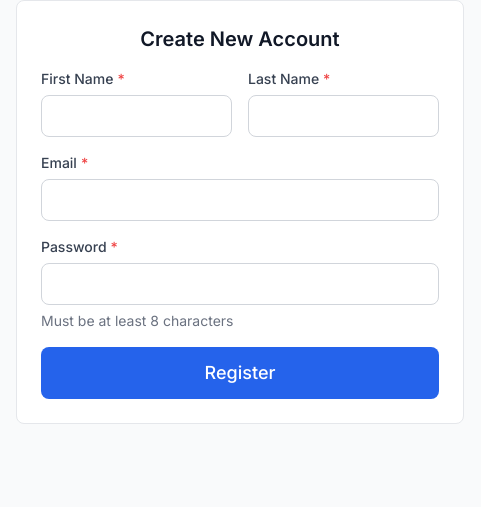
Test case: RegisterForm › shows api error message when registration fails
Type "Jane" into the field labelled "First Name*" at (136, 116), box top-left (41, 95), bottom-right (232, 137)
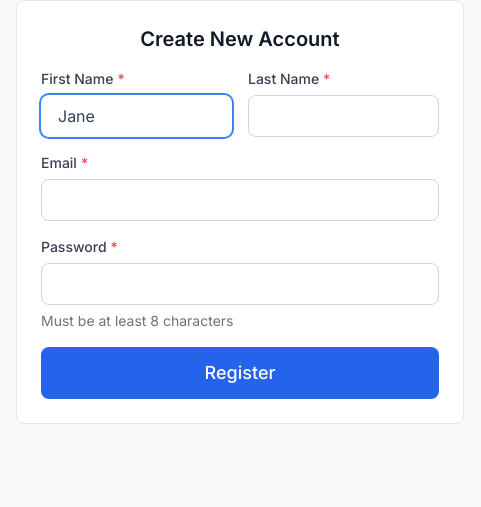
Type "Doe" into the field labelled "Last Name*" at (344, 116), box top-left (248, 95), bottom-right (439, 137)
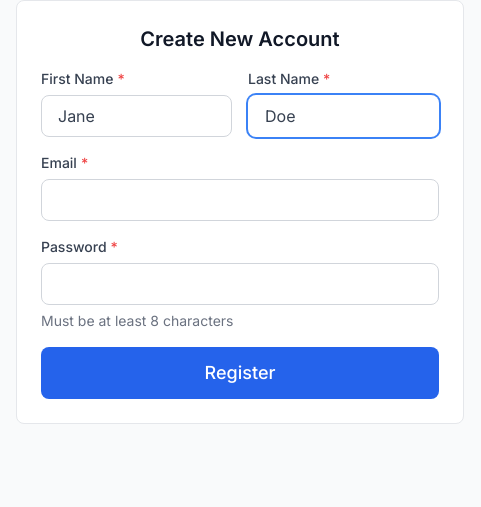
Type "jane.doe@example.com" into the field labelled "Email*" at (240, 200), box top-left (41, 179), bottom-right (439, 221)
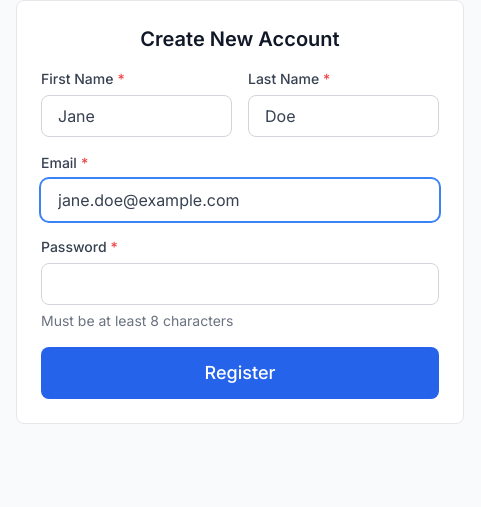
Type "SecurePass123!" into the password field labelled "Password*" at (240, 284), box top-left (41, 263), bottom-right (439, 305)
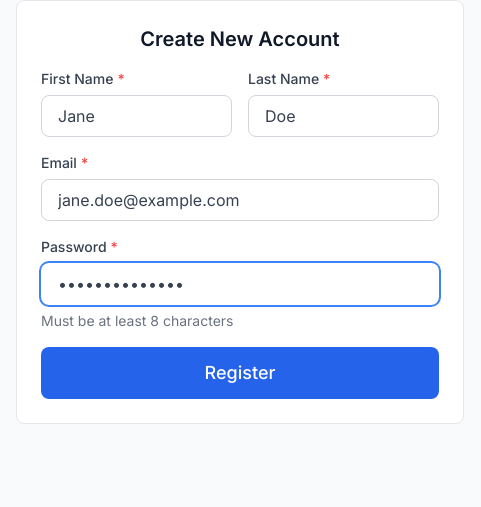
Submit the form named "submit registration form", box top-left (41, 69), bottom-right (439, 399)
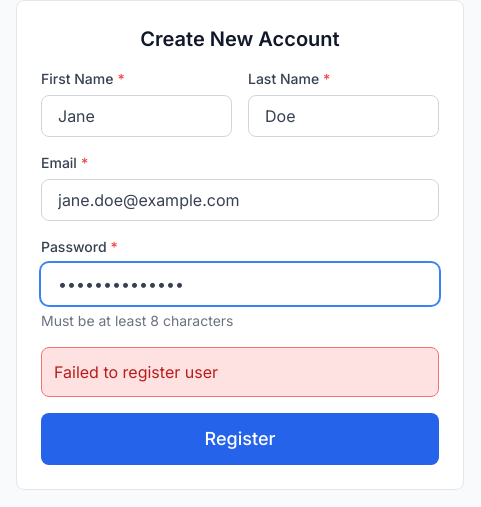
Expected: the text "Failed to register user" is shown, top-left (41, 347), bottom-right (439, 397)
